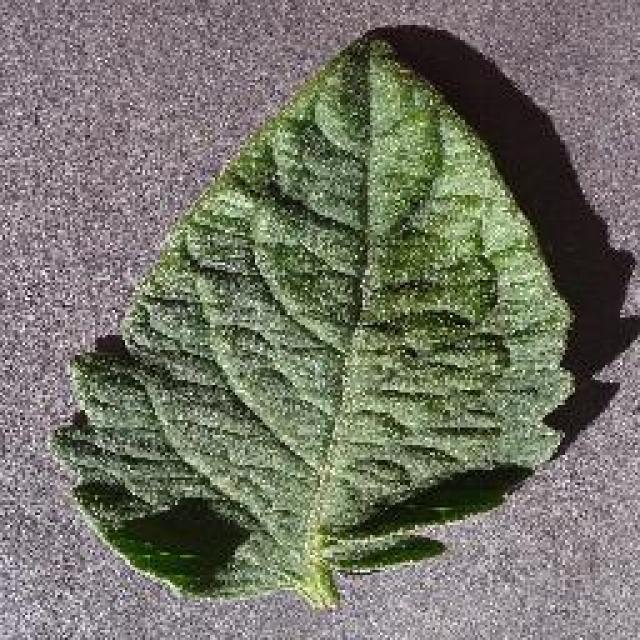Tomato healthy leaf: (80, 38, 555, 588)
